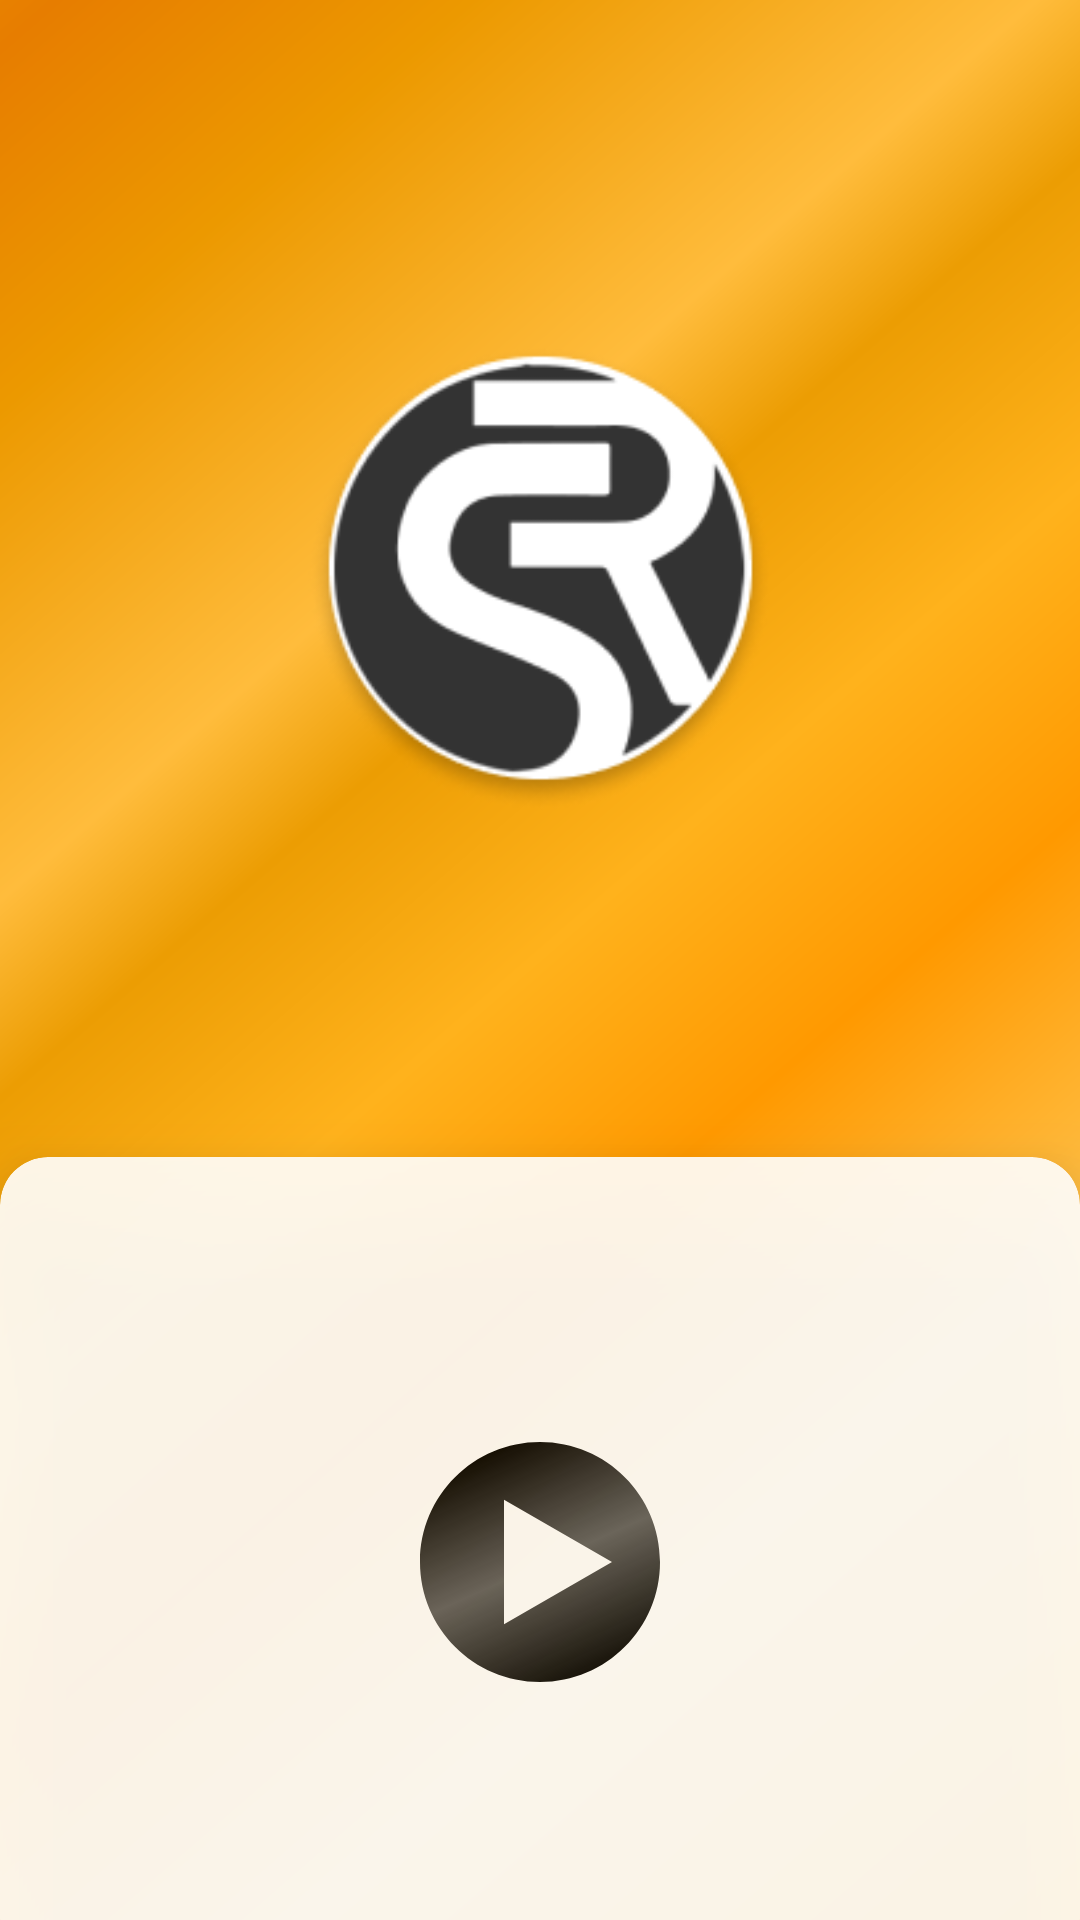

Locate icon controls on the screen. Image size 1080w x 1920h, boxes as (x1, y1, x2, y2).
play: (420, 1442, 660, 1682)
